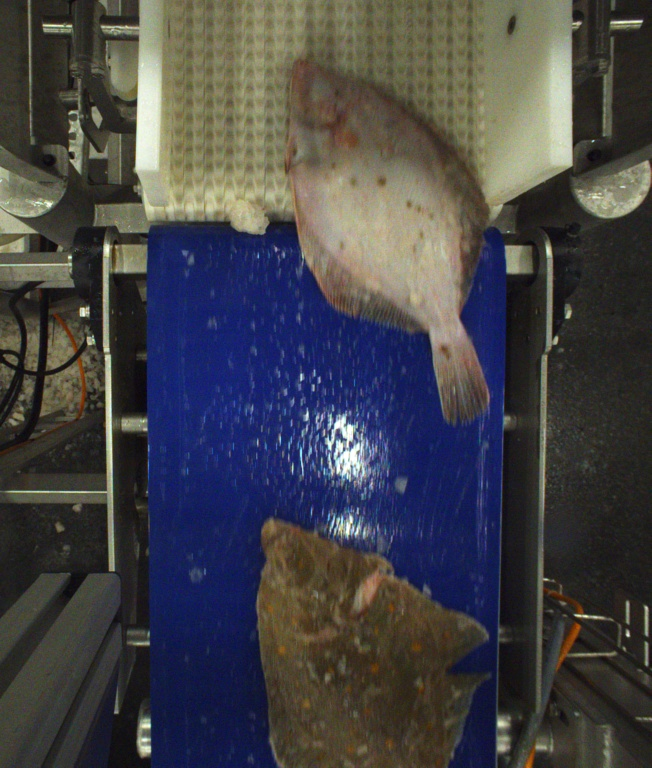PLE: (288, 58, 489, 424)
